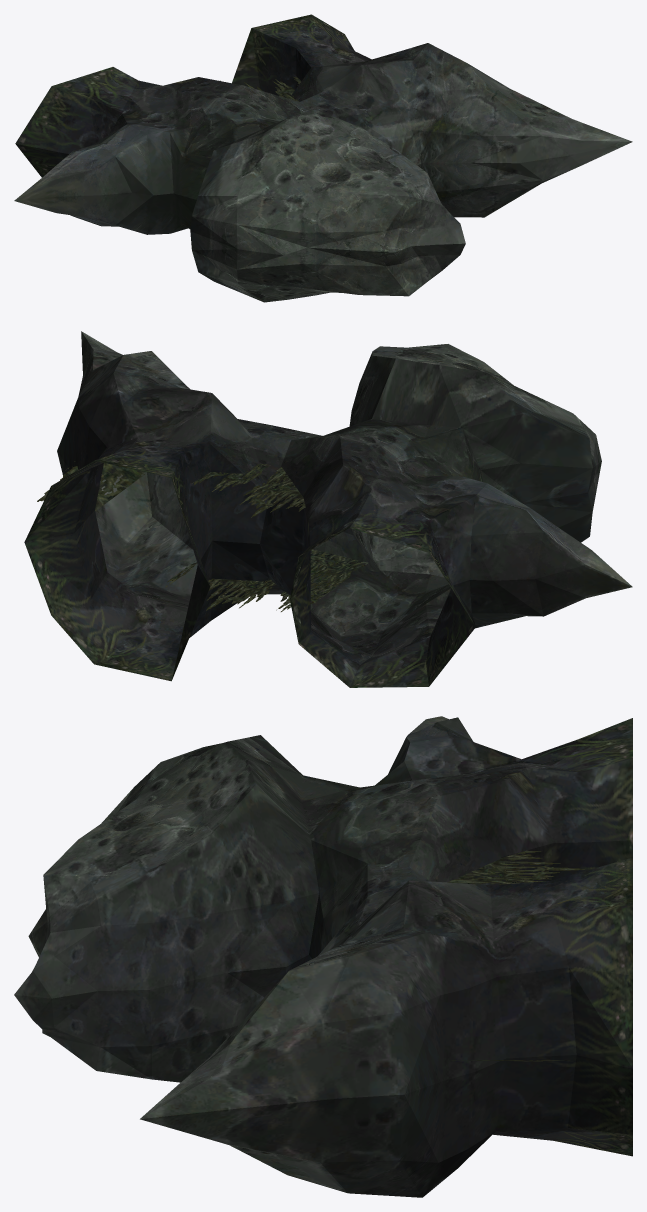
The model's file is yatelandisi_fuben_223_guaishi03.obj.
The picture shows the model from 3 angles, top to bottom: view 1: azimuth 30°, elevation 25°; view 2: azimuth 150°, elevation 25°; view 3: azimuth 270°, elevation 25°; orthographic projection. The views are drawn at different scales.
Parts seen in each view (by area): view 1: yatelandisi_fuben_223_guaishi04; view 2: yatelandisi_fuben_223_guaishi04; view 3: yatelandisi_fuben_223_guaishi04.
Part boxes in pixels (<box>): yatelandisi_fuben_223_guaishi04: <box>14,14,632,302</box>; yatelandisi_fuben_223_guaishi04: <box>24,331,632,687</box>; yatelandisi_fuben_223_guaishi04: <box>14,716,632,1197</box>.
Bounding box in the file's own units: 1430 × 485 × 924.
Materials: 2 (2 with a texture image).
